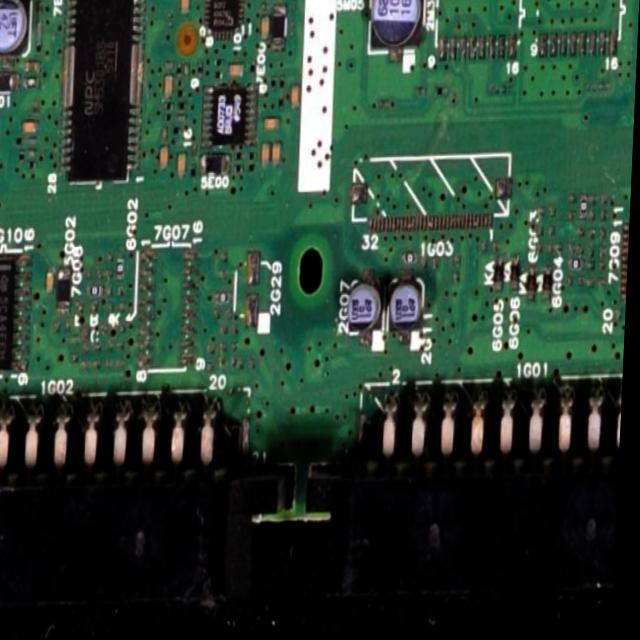IC: (59, 0, 148, 189), (0, 255, 35, 383), (201, 81, 256, 145), (193, 0, 238, 42)
capacitor: (0, 0, 27, 62), (271, 139, 284, 172), (260, 139, 273, 172), (157, 143, 172, 171), (226, 60, 247, 80), (163, 72, 177, 101), (289, 85, 303, 111), (259, 15, 271, 43), (23, 118, 42, 134), (179, 149, 188, 181), (47, 267, 56, 296), (265, 117, 283, 130), (179, 0, 191, 17), (263, 0, 275, 1)
connector: (308, 395, 626, 604), (0, 394, 294, 610)
